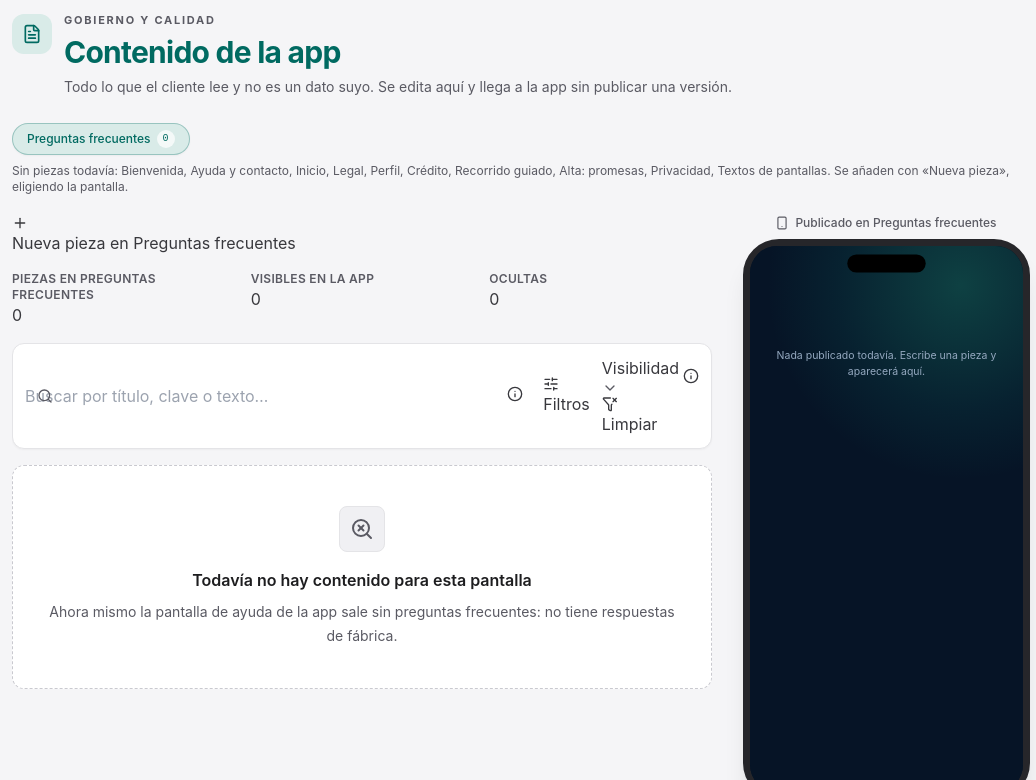
Test: Contenido de la app › sin coincidencias dice que nada coincide, y sin piezas dice lo que ve el cliente
Check: the heading "Todavía no hay contenido para esta pantalla" is shown, box [192,568,532,592]
Type "zzz" into the field labelled "Buscar por título, clave o texto…" at {"x": 149, "y": 396}, box [25,384,273,408]
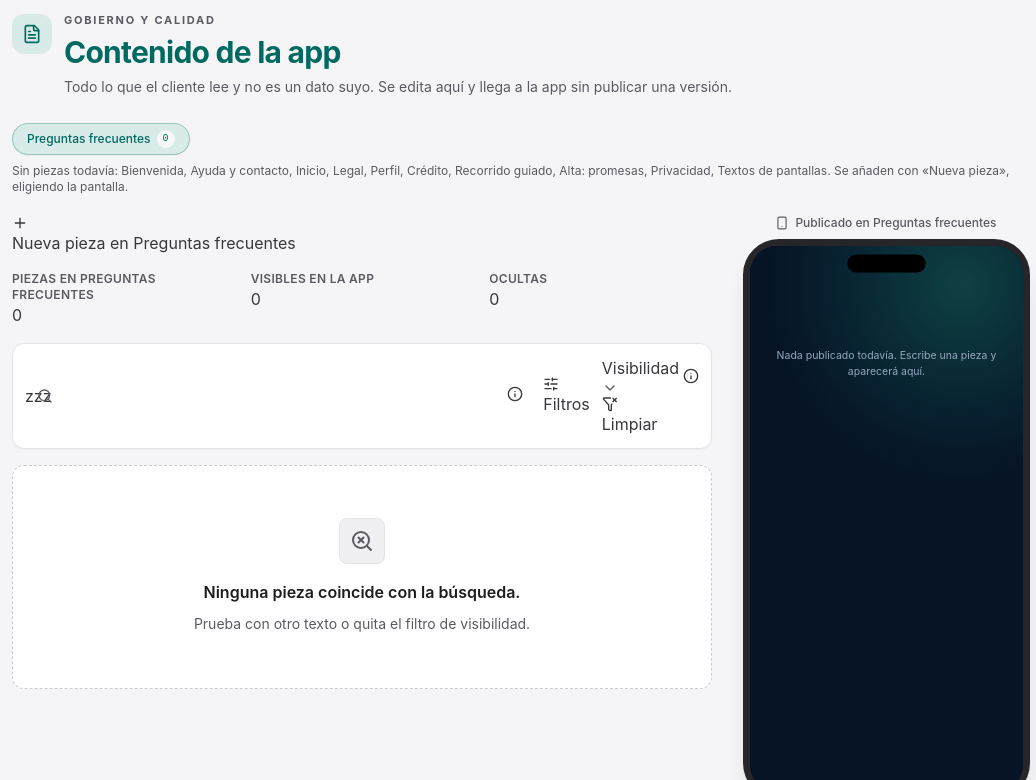
Check: the heading "Ninguna pieza coincide con la búsqueda." is shown, box [204,580,520,604]
